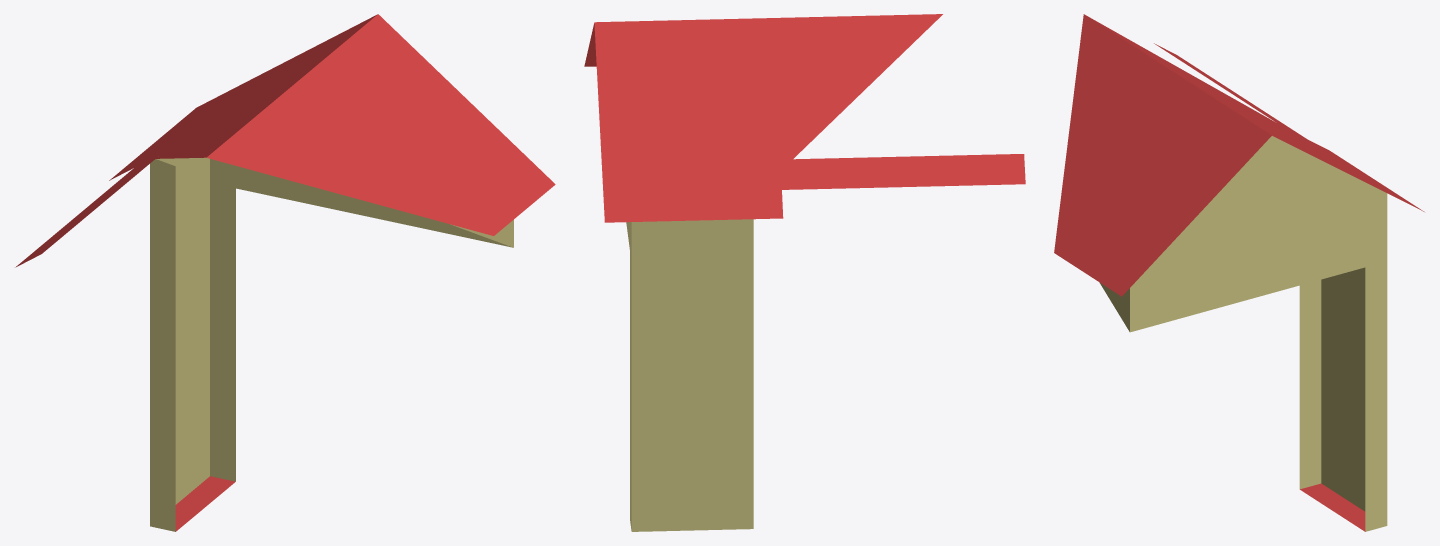
The picture shows the model from 3 angles, left to right: view 1: azimuth 30°, elevation 25°; view 2: azimuth 150°, elevation 25°; view 3: azimuth 270°, elevation 25°; orthographic projection. The views are drawn at different scales.
Bounding box in the file's own units: 14.29 × 9.97 × 12.91.
